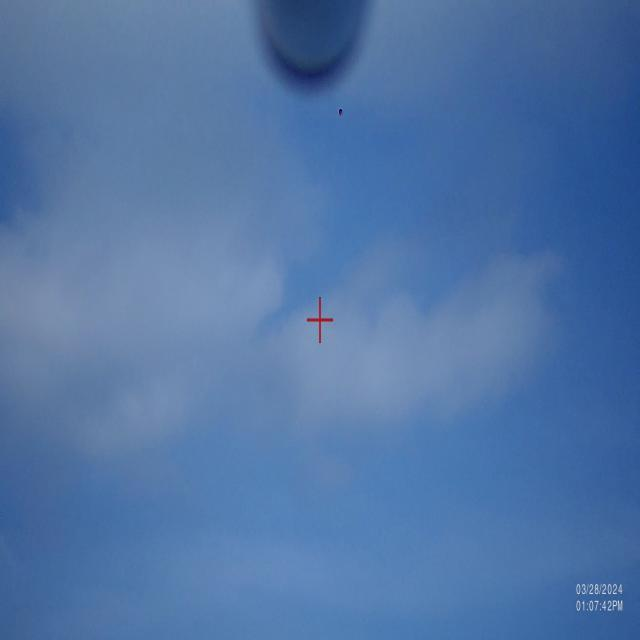entire: (332, 101, 350, 119)
